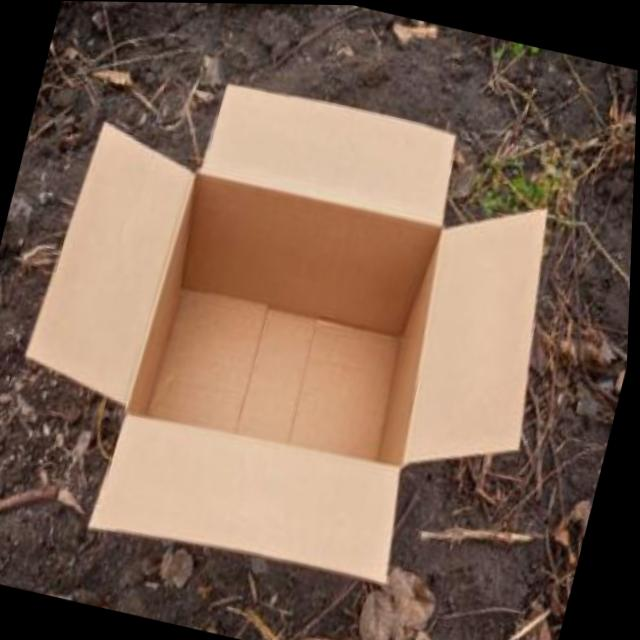box: (0, 20, 608, 623)
